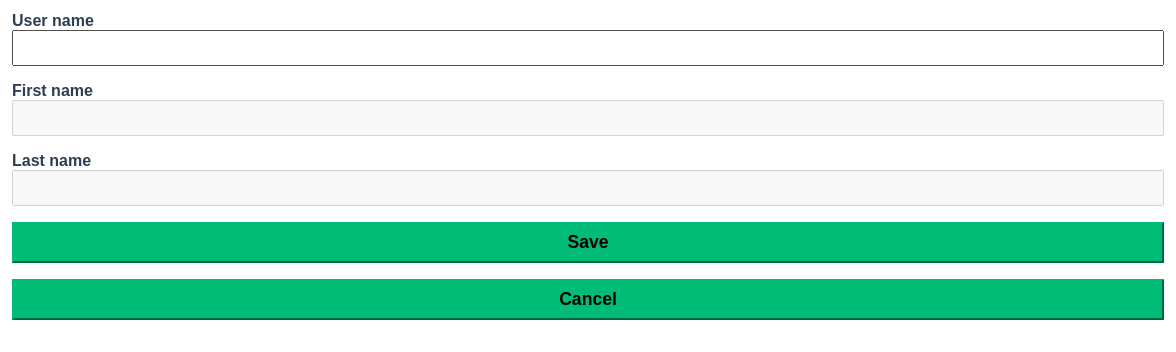
Test: When UserForm is displayed › then it must show validation errors when submitting empty form
This screenshot has width=1176, height=352.
Click the button "Save": (588, 242) [12,222,1164,263]
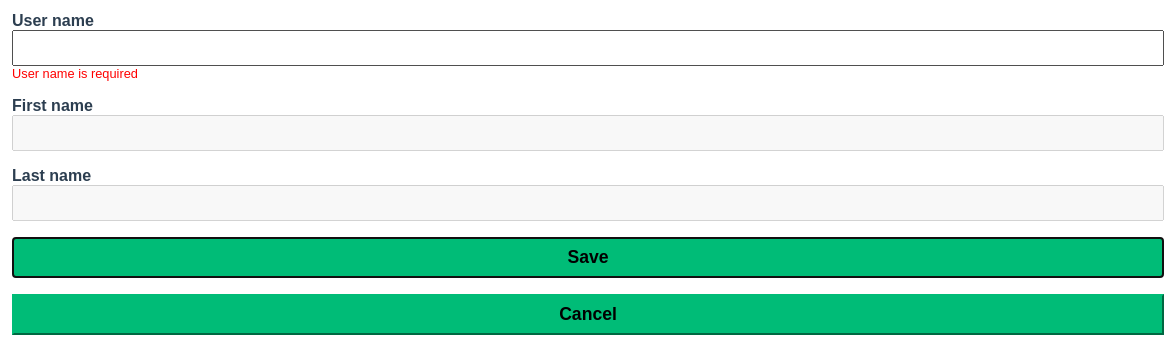
Expected: the text "User name is required" is shown, [12,66,138,81]
